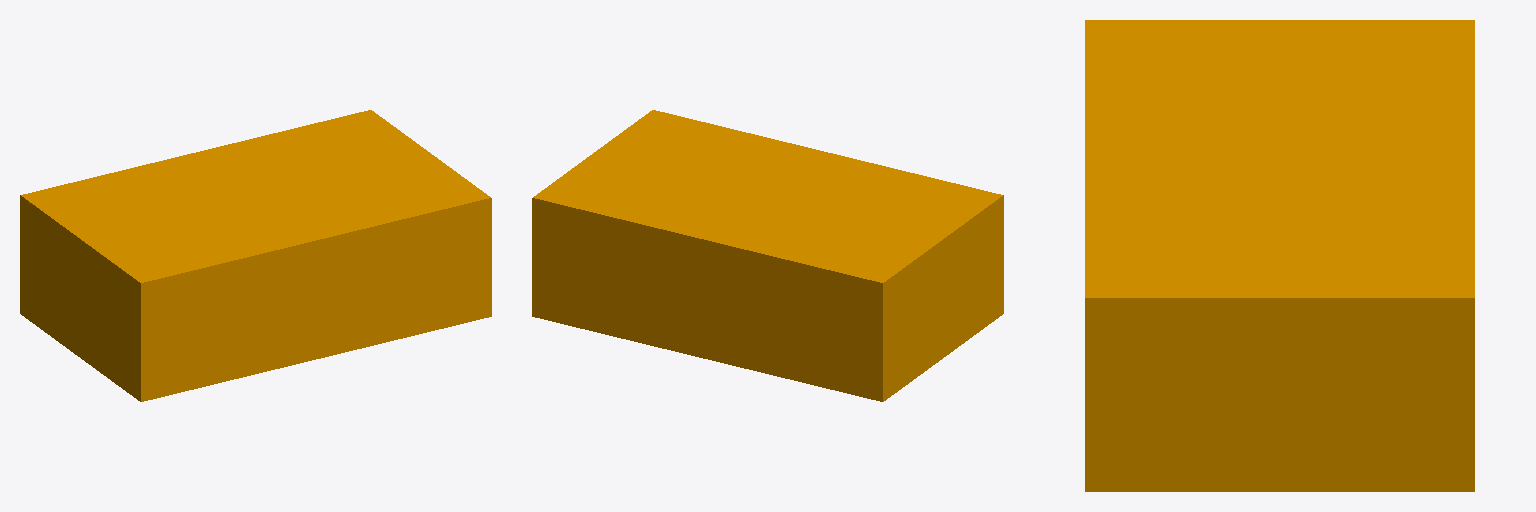
The robot description file, URDF, robot "2x2":
<?xml version='1.0' encoding='UTF-8'?>
<robot name="2x2">
  <link name="base_link">
    <inertial>
      <origin xyz="0.0 0.0 0.0" rpy="0.0 0.0 0.0"/>
      <mass value="0.01"/>
      <inertia ixx="0.1" ixy="0.0" ixz="0.0" iyy="0.1" iyz="0.0" izz="0.1"/>
    </inertial>
    <visual>
      <geometry>
        <box size="0.037 0.022 0.012"/>
      </geometry>
      <material name=""/>
      <origin xyz="0.0 0.0 0.0" rpy="0.0 0.0 0.0"/>
    </visual>
    <collision>
      <geometry>
        <box size="0.037 0.022 0.012"/>
      </geometry>
      <origin xyz="0.0 0.0 0.0" rpy="0.0 0.0 0.0"/>
    </collision>
  </link>
  <material name="">
    <color rgba="0.756 0.186 0.378 1.   "/>
  </material>
  <contact>
    <lateral_friction value="1.0"/>
    <rolling_friction value="0.0"/>
    <contact_cfm value="0.0"/>
    <contact_erp value="1.0"/>
  </contact>
</robot>

--- What the picture shows (computed from the rendered views, not written in the file) ---
3 views of the same robot in one strip: view 1: azimuth 30°, elevation 25°; view 2: azimuth 150°, elevation 25°; view 3: azimuth 270°, elevation 25° (orthographic).
Robot: 2x2 — 1 links, 0 joints (none); root link base_link; default pose: every joint at zero.
Links seen in each view (by area): view 1: base_link; view 2: base_link; view 3: base_link.
Link boxes in pixels (box(x1,y1,x2,y2)): base_link: box(20, 110, 491, 401); base_link: box(532, 110, 1003, 401); base_link: box(1085, 20, 1474, 491).
Size in the robot's own frame: 0.037 by 0.022 by 0.012 metres.
Geometry: primitives only (box / cylinder / sphere), no mesh files.